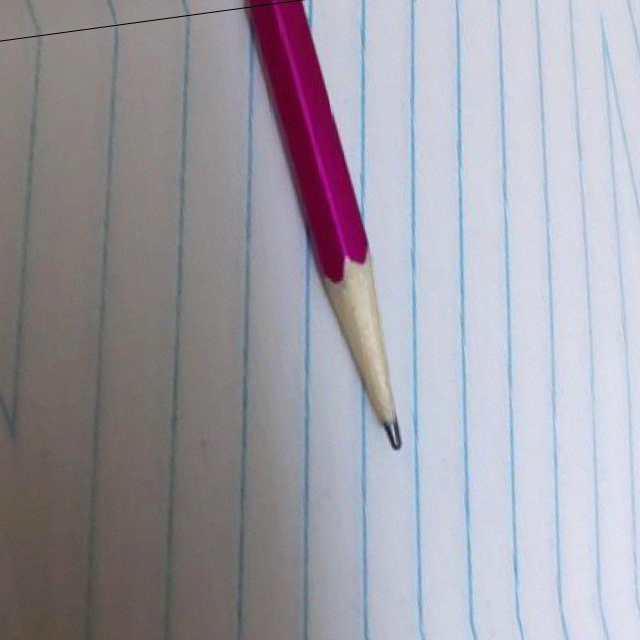pencil: (319, 243, 427, 464)
